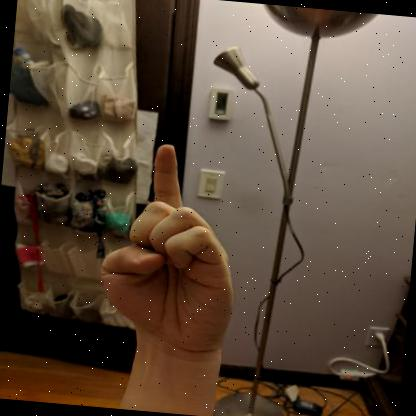D: (101, 144, 233, 361)
